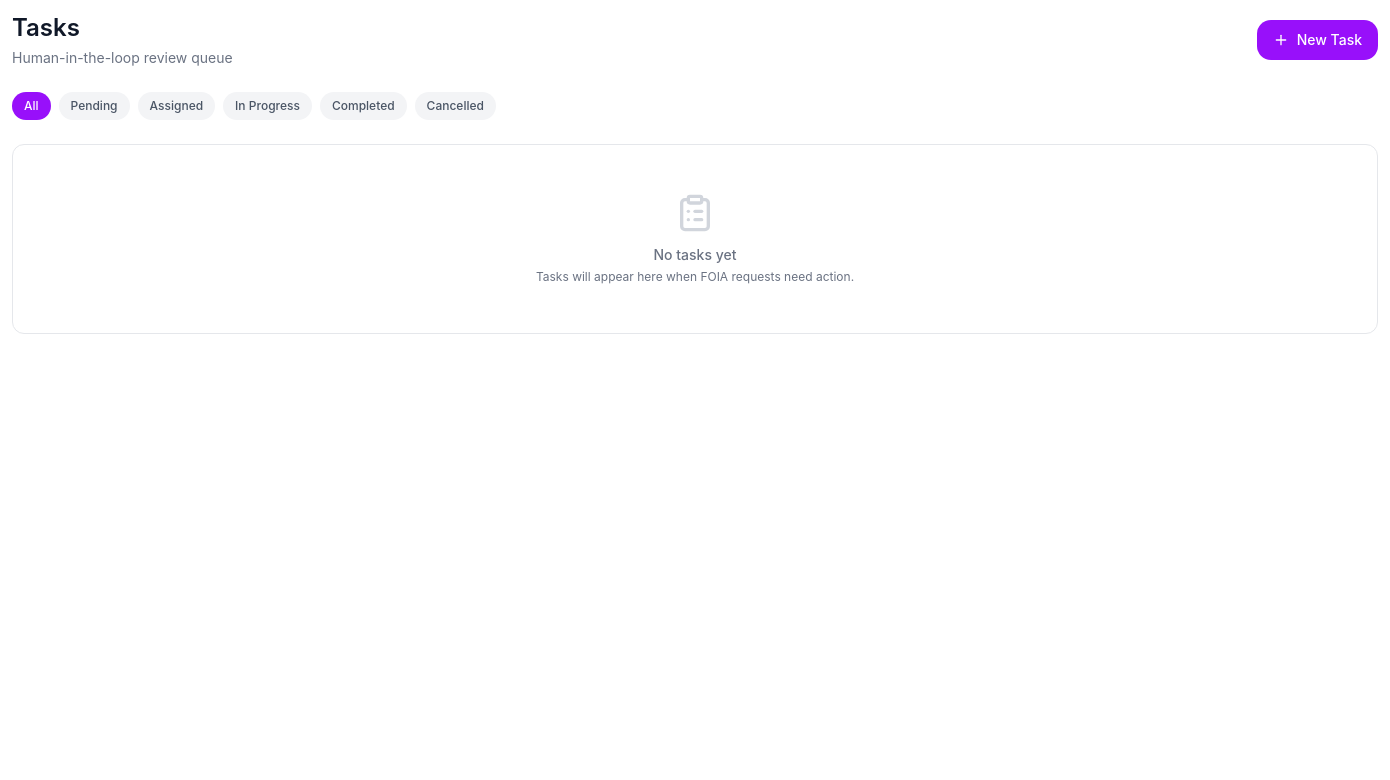
Test: TasksContent › toggles new task form when New Task button is clicked
Expected: the text "No tasks yet" is shown, [654,245,736,265]
Note: Click New Task
What coordinates should you click on to do the following:
click the button "New Task"
I would click on:
 (1317, 40)
Its box is [1257,20,1378,60].
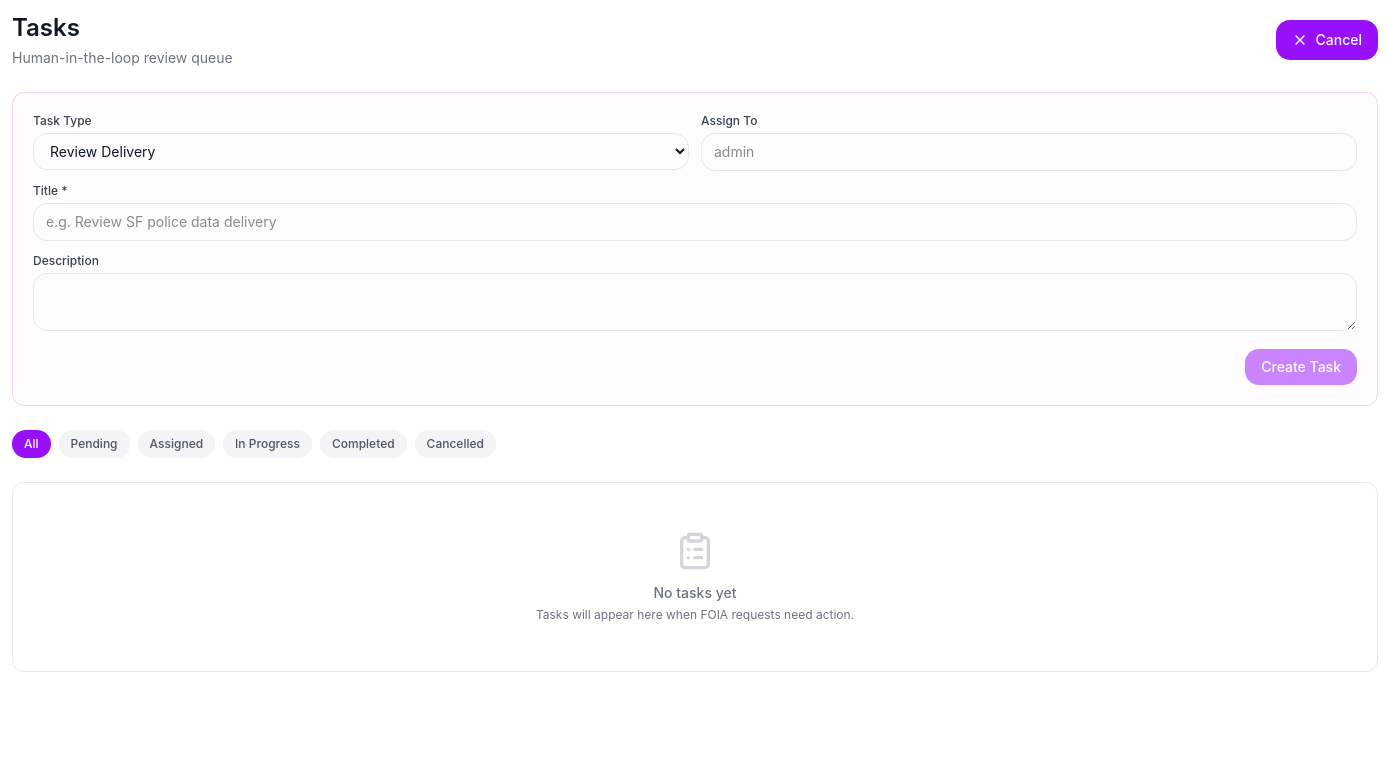
Expected: the button "Create Task" is shown, [1245,349,1357,385]
Note: Click Cancel (exact match to avoid "Cancelled" filter tab)
What coordinates should you click on to do the following:
click the button "Cancel"
I would click on:
 (1327, 40)
Its box is [1276,20,1378,60].
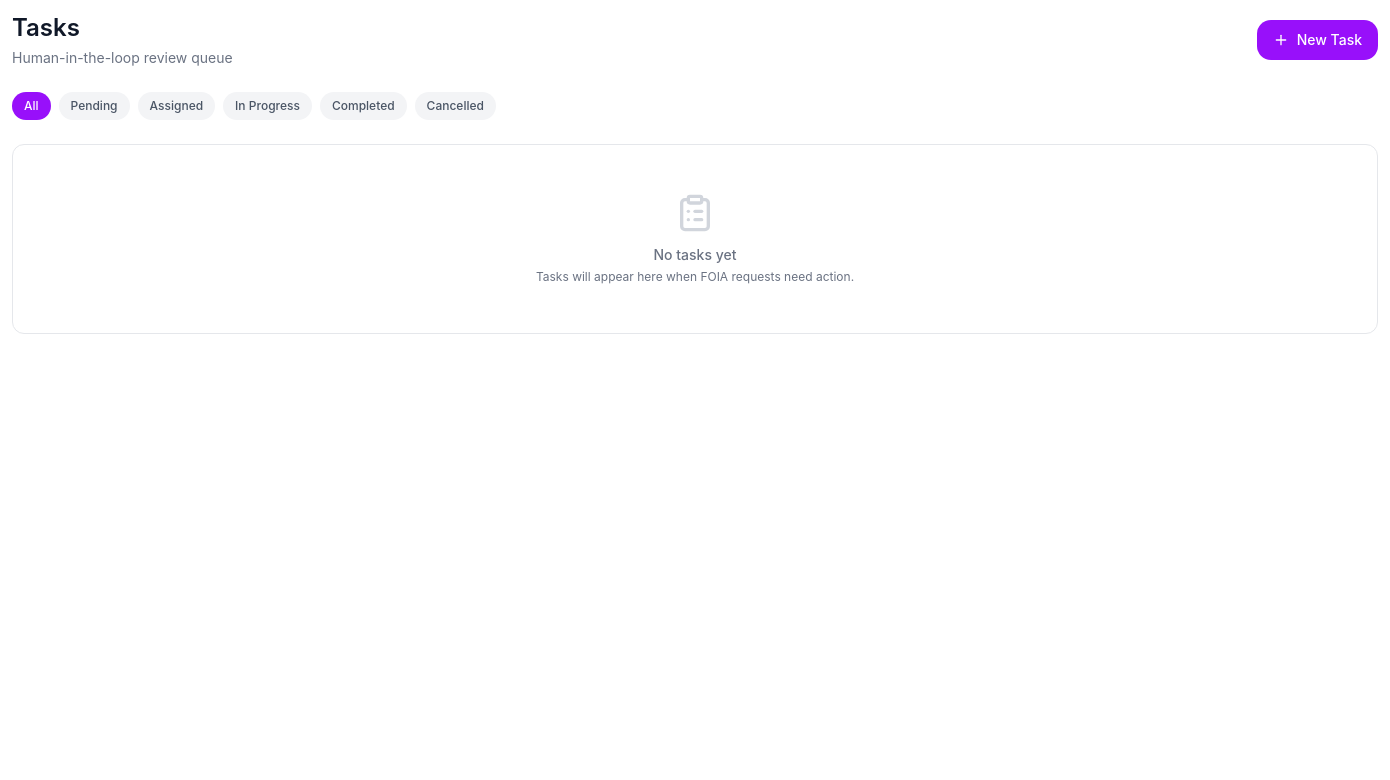
Expected: the button "Create Task" is gone
